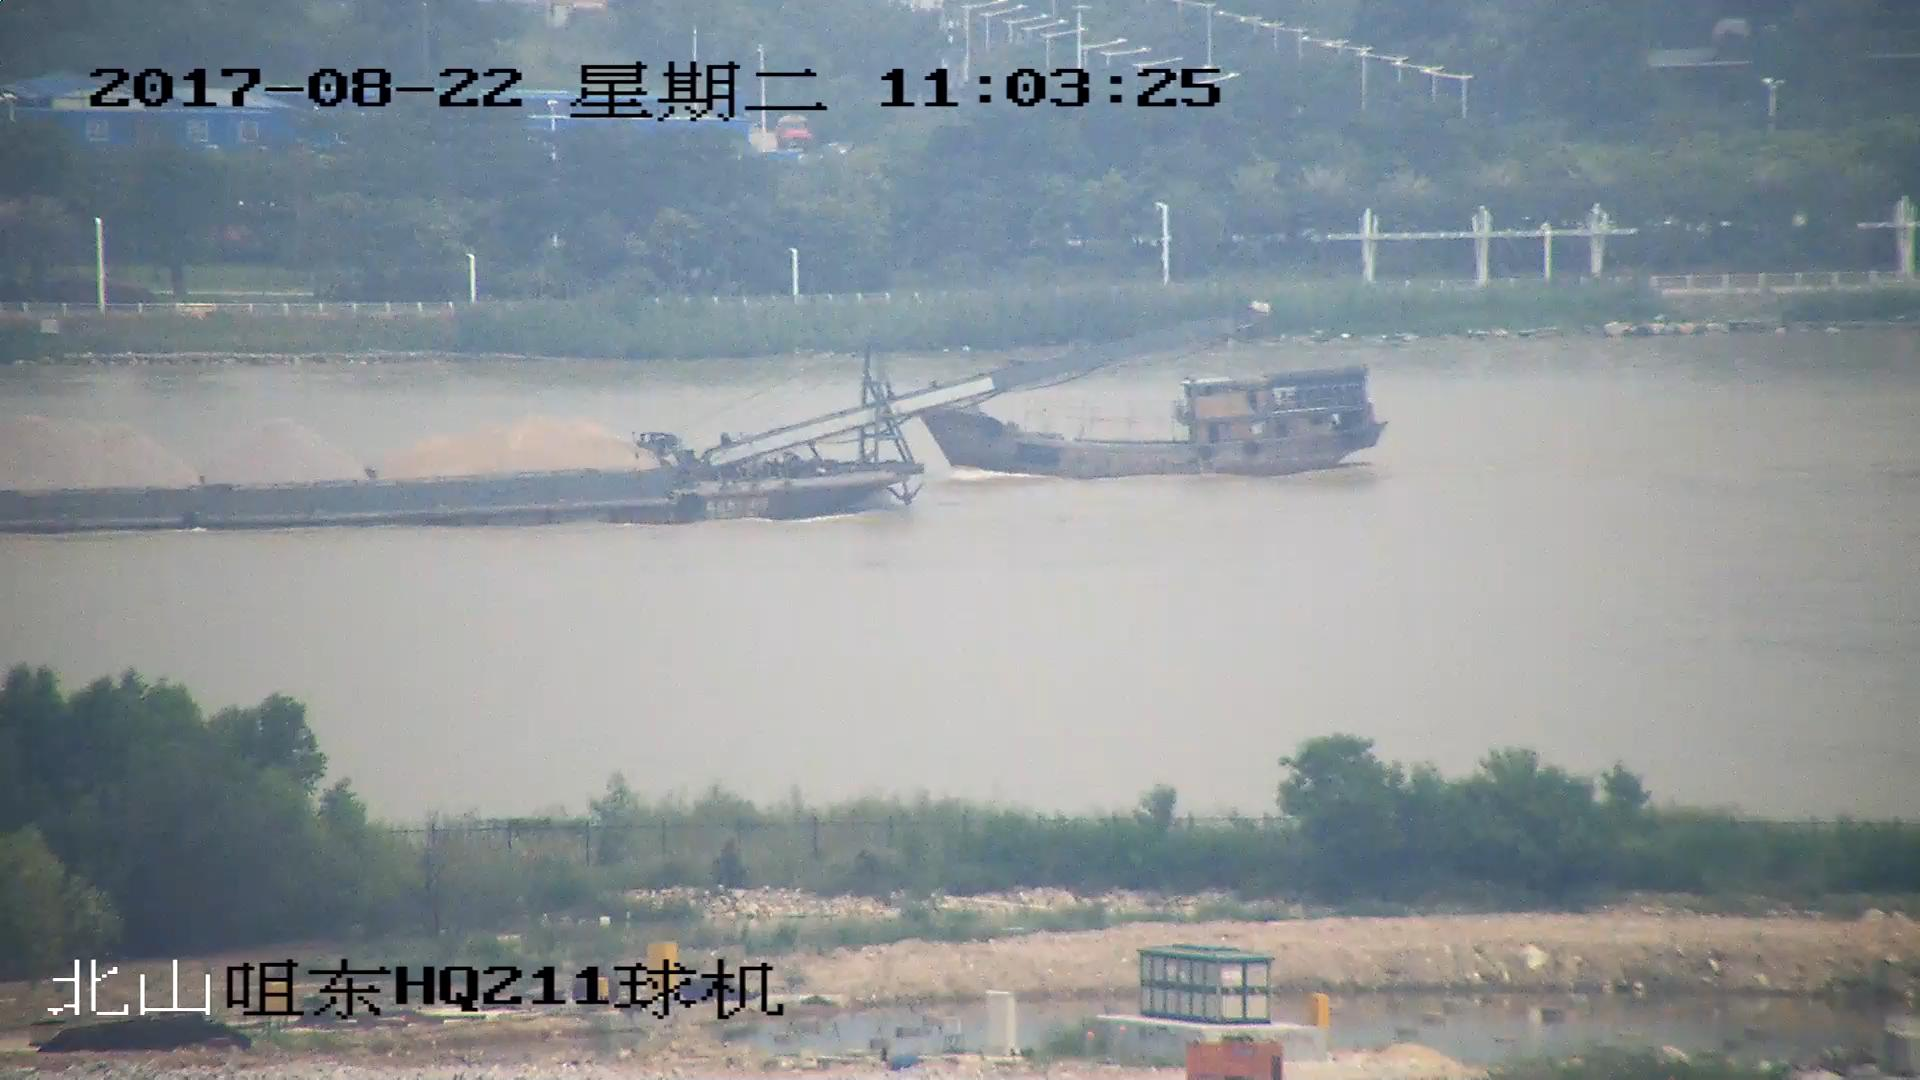fishing boat: (921, 365, 1387, 480)
ore carrier: (1, 308, 1259, 538)
